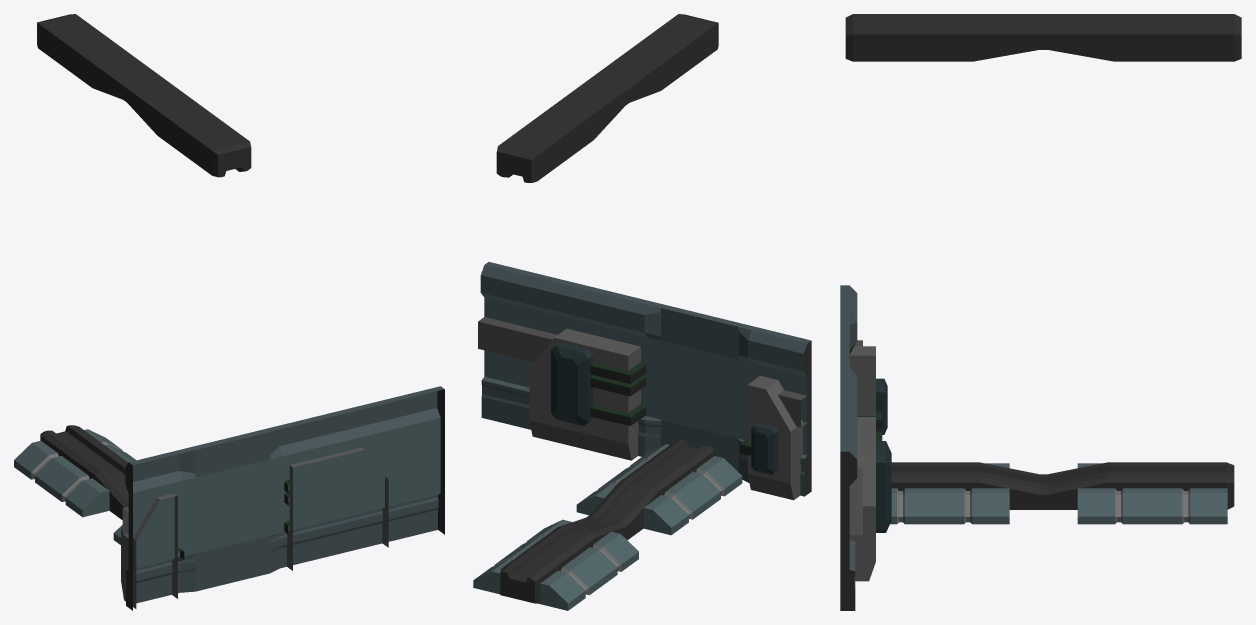
Rendered from SM_wall_front_trap.fbx.
The picture shows the model from 3 angles, left to right: view 1: azimuth 30°, elevation 25°; view 2: azimuth 150°, elevation 25°; view 3: azimuth 270°, elevation 25°; orthographic projection. The views are drawn at different scales.
Parts seen in each view (by area): view 1: SM_wall_front_trap; view 2: SM_wall_front_trap; view 3: SM_wall_front_trap.
Boxes of the visible parts, x1,y1,x2,y2 form: SM_wall_front_trap: (14,14,444,610); SM_wall_front_trap: (473,14,811,610); SM_wall_front_trap: (840,14,1241,610).
Size of the model in its own units: 300 by 400 by 306.
1 material, 1 textured.
